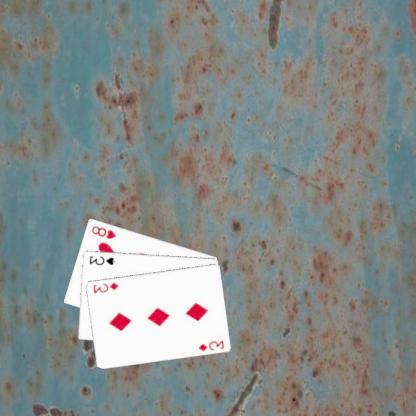3D: (92, 279, 121, 295), (197, 338, 227, 352)
3S: (88, 253, 118, 266)
8H: (90, 223, 119, 240)
